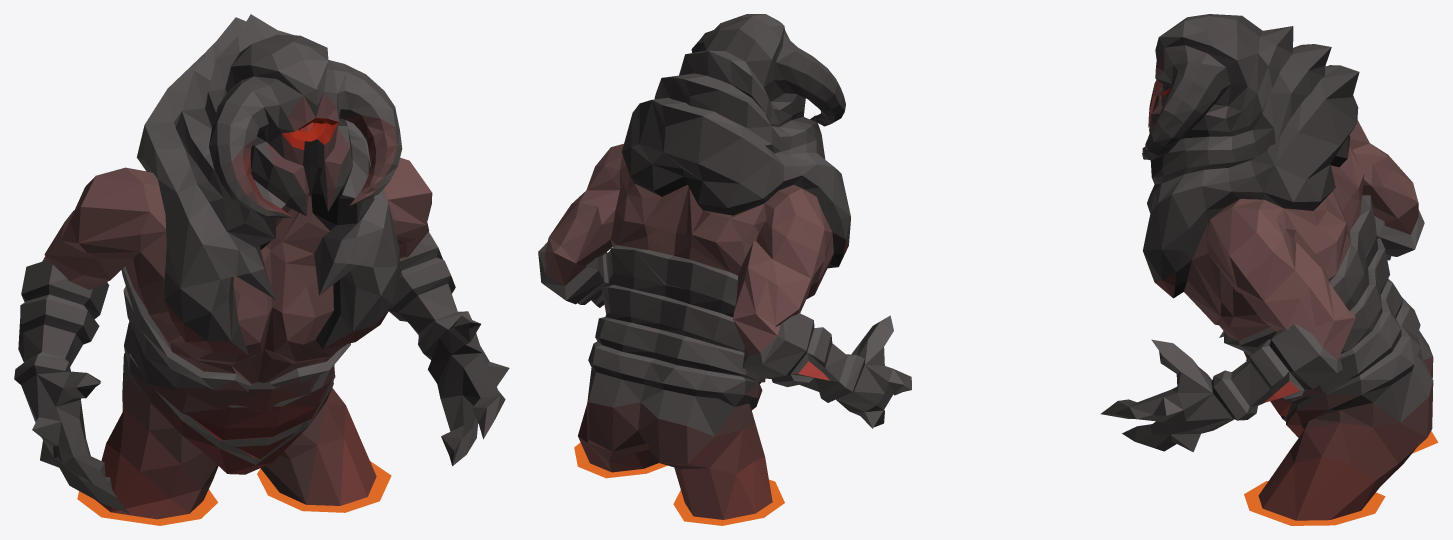
File: Zuk.glb
3 views of the same model, side by side, from view 1: azimuth 30°, elevation 25°; view 2: azimuth 150°, elevation 25°; view 3: azimuth 270°, elevation 25° (orthographic). The views are drawn at different scales.
Bounding box in the file's own units: 622 × 710 × 717.
1 material, 1 textured.
